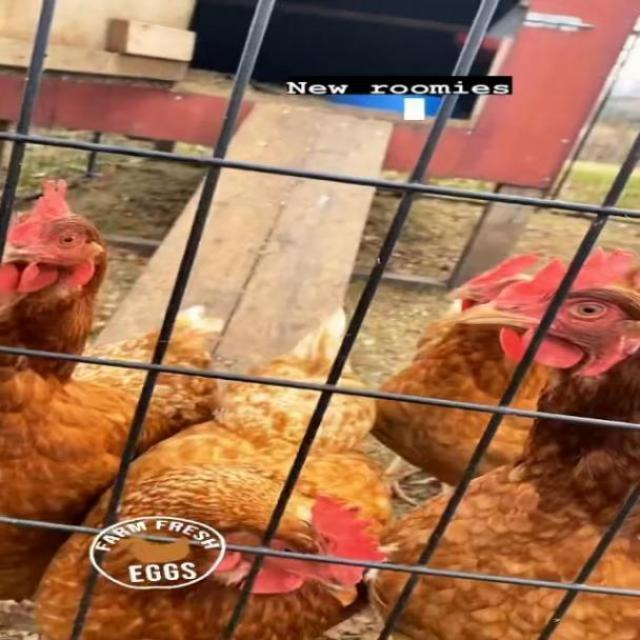Chicken: (28, 307, 399, 640), (365, 245, 640, 640), (0, 260, 224, 600), (364, 251, 568, 505), (3, 177, 110, 379)
